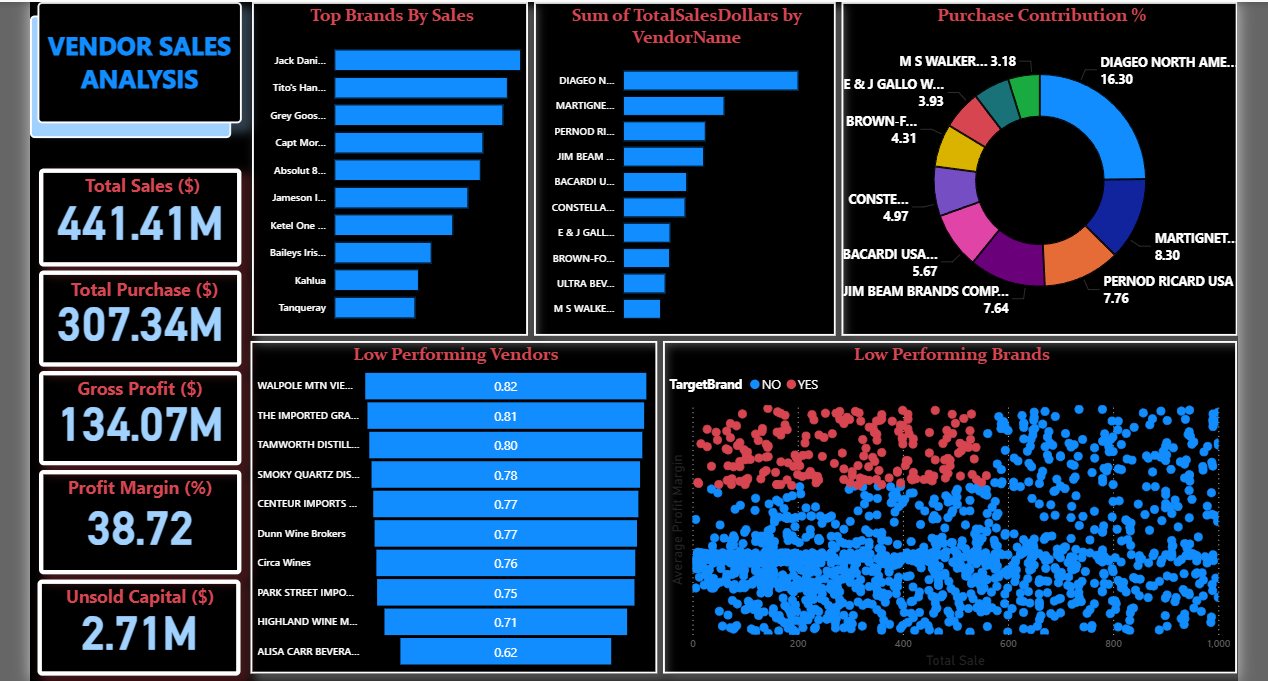

Layout of this report page (visuals, bound fields, positions):
{"tool":"powerbi","page":{"name":"Page 1","canvas":[1280,720],"ordinal":0},"visuals":[{"type":"card","fields":{"Values":["Sum(vendor_sales_summary.TotalSalesDollars)"]},"box":[9.1,177.3,214.5,104],"z":0},{"type":"card","fields":{"Values":["Sum(vendor_sales_summary.TotalPurchaseDollars)"]},"box":[9.1,285.5,214.5,101.8],"z":1000},{"type":"card","fields":{"Values":["Sum(vendor_sales_summary.GrossProfit)"]},"box":[9.1,391.8,214.5,100],"z":2000},{"type":"card","fields":{"Values":["Avg(vendor_sales_summary.ProfitMargin)"]},"box":[9.1,496.4,214.5,110.9],"z":3000},{"type":"card","fields":{"Values":["Sum(vendor_sales_summary.UnsoldCapital)"]},"box":[8.2,611.8,215.5,101.8],"z":4000},{"type":"donutChart","title":"Purchase Contribution %","fields":{"Category":["PurchaseContribution.VendorName"],"Y":["Sum(PurchaseContribution.PurchaseContribution %)"]},"box":[860,0,420,354.2],"z":5000},{"type":"barChart","fields":{"Category":["vendor_sales_summary.VendorName"],"Y":["Sum(vendor_sales_summary.TotalSalesDollars)"]},"box":[533.8,0,320,353.8],"z":6000},{"type":"barChart","title":"Top Brands By Sales","fields":{"Y":["Sum(vendor_sales_summary.TotalSalesDollars)"],"Category":["vendor_sales_summary.Description"]},"box":[235.7,0,292.9,354.3],"z":7000},{"type":"funnel","title":"Low Performing Vendors","fields":{"Category":["LoweTurnoverVendor.VendorName"],"Y":["Sum(LoweTurnoverVendor.AvgStockTurnOver)"]},"box":[234.3,360,431.4,352.9],"z":8000},{"type":"scatterChart","title":"Low Performing Brands","fields":{"X":["Sum(BrandPerformance.TotalSales)"],"Category":["BrandPerformance.Description"],"Series":["BrandPerformance.TargetBrand"],"Y":["Avg(BrandPerformance.AvgProfitMargin)"]},"box":[671.4,360,608.6,352.9],"z":9000},{"type":"textbox","box":[16.4,177.3,207.3,37.3],"z":10000},{"type":"textbox","box":[18,286,208,36],"z":11000},{"type":"textbox","box":[12,392,208,36],"z":12000},{"type":"textbox","box":[12,496,208,36],"z":13000},{"type":"textbox","box":[12,612,208,36],"z":14000},{"type":"textbox","box":[0,15,213,130],"z":15000},{"type":"textbox","box":[8.3,0,216.7,128.3],"z":16000}]}

Visuals, with their boxes in screenshot pixels (x1, y1, x2, y2):
card - Sum(vendor_sales_summary.TotalSalesDollars): 38/165/238/262
card - Sum(vendor_sales_summary.TotalPurchaseDollars): 38/266/238/361
card - Sum(vendor_sales_summary.GrossProfit): 38/365/238/458
card - Avg(vendor_sales_summary.ProfitMargin): 38/462/238/566
card - Sum(vendor_sales_summary.UnsoldCapital): 37/570/238/665
"Purchase Contribution %" donutChart: 831/0/1222/330
barChart - vendor_sales_summary.VendorName x Sum(vendor_sales_summary.TotalSalesDollars): 527/0/825/330
"Top Brands By Sales" barChart: 249/0/522/330
"Low Performing Vendors" funnel: 248/335/650/664
"Low Performing Brands" scatterChart: 655/335/1222/664
textbox: 45/165/238/200
textbox: 46/266/240/300
textbox: 41/365/235/399
textbox: 41/462/235/496
textbox: 41/570/235/604
textbox: 30/14/228/135
textbox: 37/0/239/120
